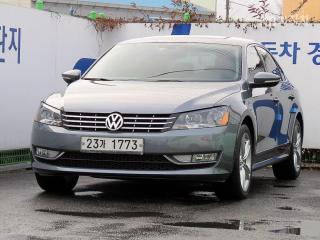1: (111, 139, 116, 150)
2: (86, 138, 93, 149)
3: (131, 139, 138, 151), (92, 138, 99, 149)
7: (116, 139, 124, 150), (124, 139, 131, 150)
가: (99, 139, 107, 149)
